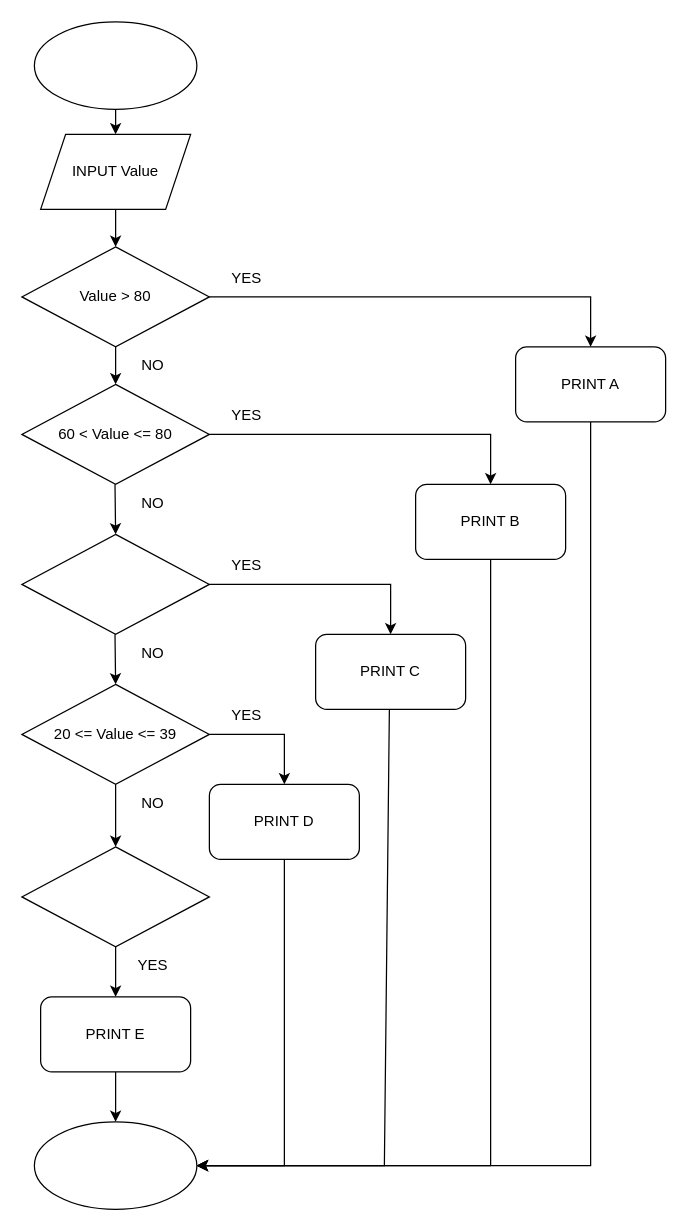
This 688x1231 diagram has some shape labels left out. The shapes that lost their labels are listed below. From the top down, each one's box as (x1, y1, x2, y2) in pixels, then its label:
(33, 21, 197, 109): START
(21, 533, 209, 634): 40 <= Value <= 59
(21, 846, 209, 947): Value < 20
(33, 1121, 197, 1209): END
